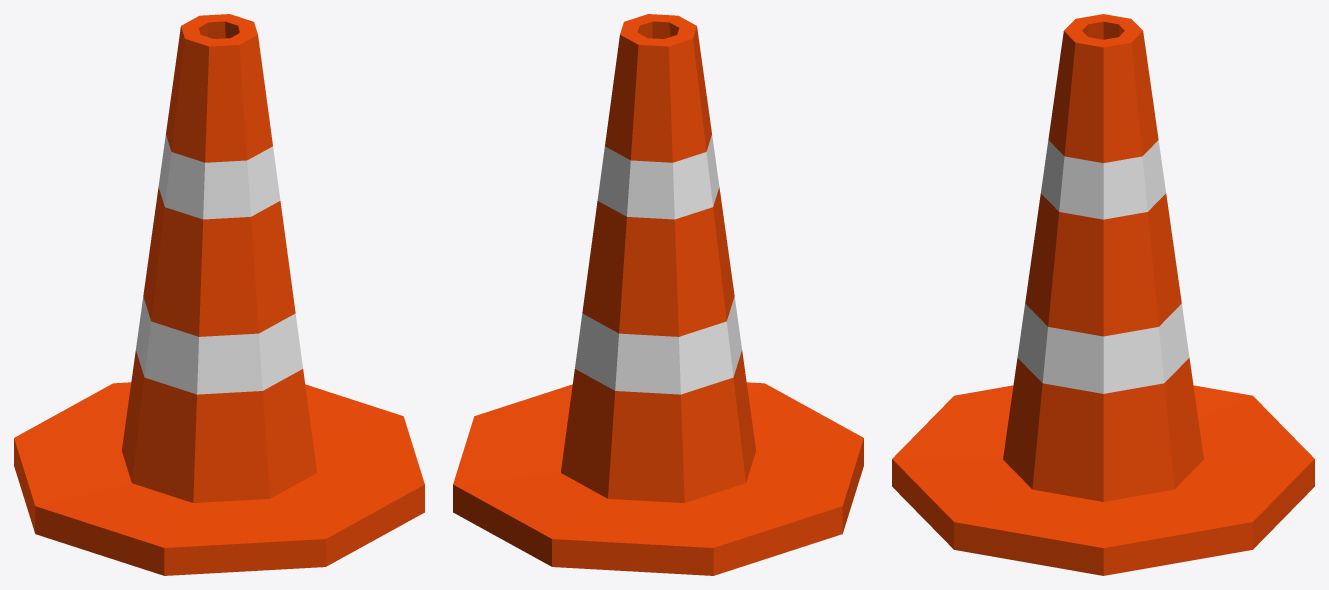
3 renders of one model, left to right at view 1: azimuth 30°, elevation 25°; view 2: azimuth 150°, elevation 25°; view 3: azimuth 270°, elevation 25°, orthographic.
Visible parts, largest first — view 1: Traffic Cone; view 2: Traffic Cone; view 3: Traffic Cone.
Boxes of the visible parts, x1,y1,x2,y2 form: Traffic Cone: (14,14,424,575); Traffic Cone: (453,14,863,575); Traffic Cone: (892,14,1314,575).
Bounding box in the file's own units: 210 × 250 × 210.
